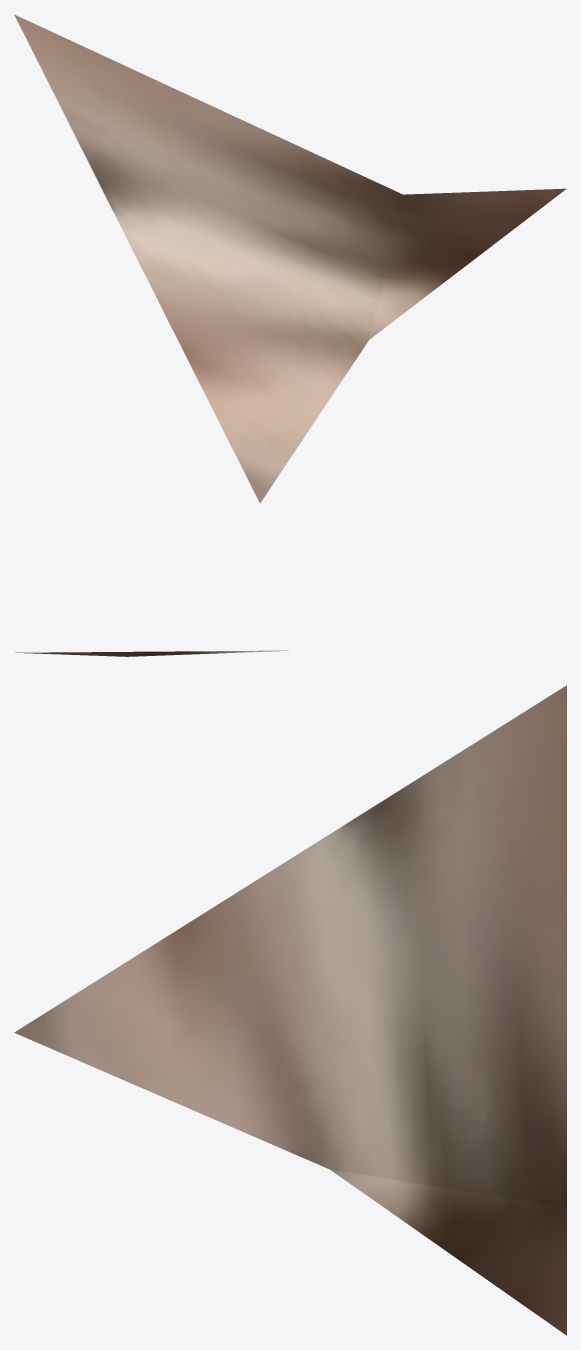
The picture shows the model from 3 angles, top to bottom: view 1: azimuth 30°, elevation 25°; view 2: azimuth 150°, elevation 25°; view 3: azimuth 270°, elevation 25°; orthographic projection. The views are drawn at different scales.
Bounding box in the file's own units: 0.2967 × 0.1586 × 0.2287.
Materials: 1 (1 with a texture image).
